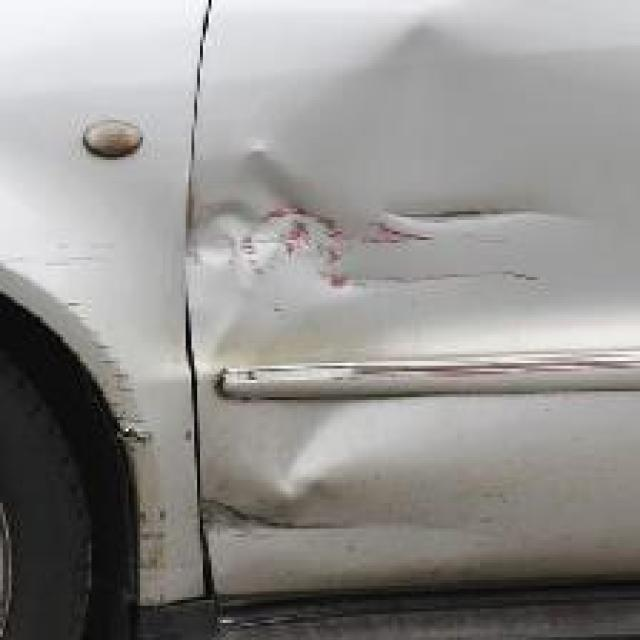door_dent_moderate: (189, 143, 449, 494)
